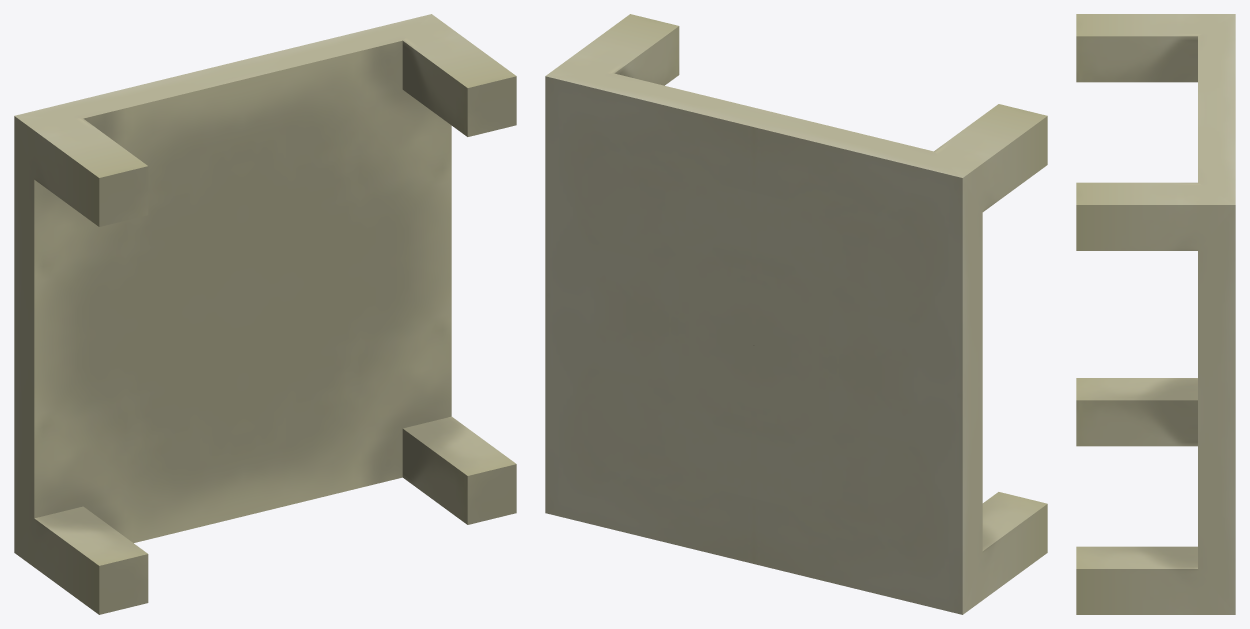
Rendered from props_table_white_low.fbx.
The picture shows the model from 3 angles, left to right: view 1: azimuth 30°, elevation 25°; view 2: azimuth 150°, elevation 25°; view 3: azimuth 270°, elevation 25°; orthographic projection. The views are drawn at different scales.
Parts seen in each view (by area): view 1: low_table_white; view 2: low_table_white; view 3: low_table_white.
Boxes of the visible parts, box(x1,y1,x2,y2) form: low_table_white: box(14, 14, 516, 614); low_table_white: box(545, 14, 1047, 614); low_table_white: box(1076, 14, 1235, 614).
Size of the model in its own units: 1.2 by 1.2 by 0.4233.
1 material, 1 textured.
